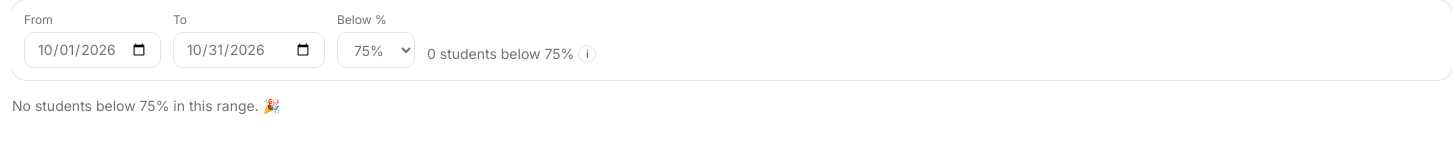
Test case: DefaulterBoard › requeries when the threshold changes
Select "60%" in the dropdown named "Attendance threshold" at {"x": 376, "y": 50}, box [337,32,415,68]
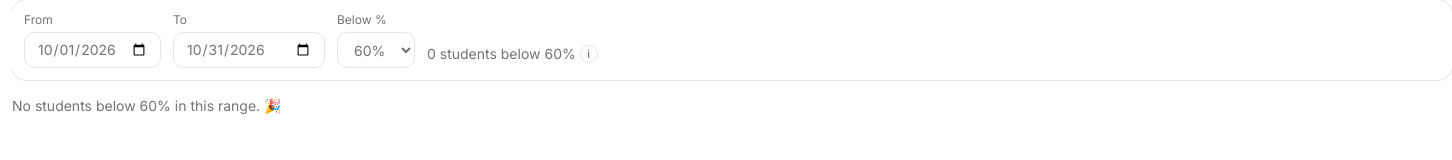
Expected: the text "0 students below 60%" is shown, [427,44,576,64]
